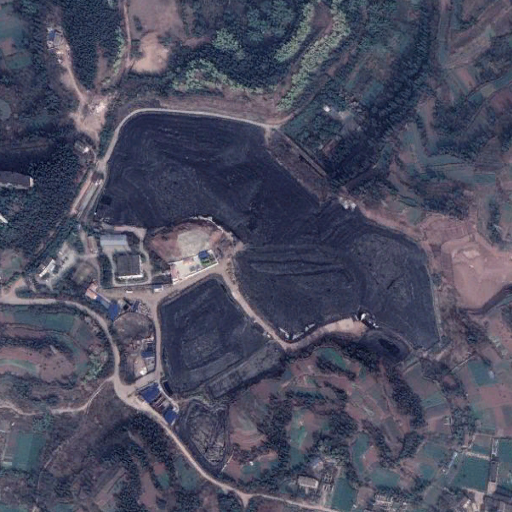lf: (86, 107, 438, 400)
